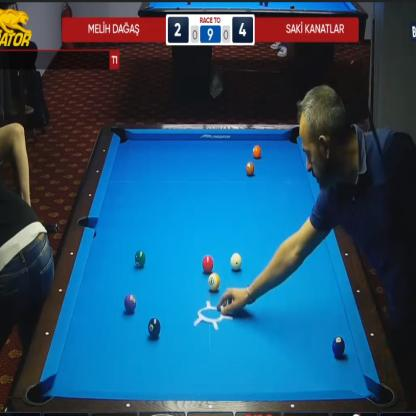Ball: (332, 336, 346, 357), (148, 317, 161, 338), (124, 294, 136, 314), (230, 252, 242, 271), (208, 273, 220, 292), (134, 250, 146, 268), (202, 255, 214, 273), (252, 145, 261, 159), (245, 162, 254, 175)
